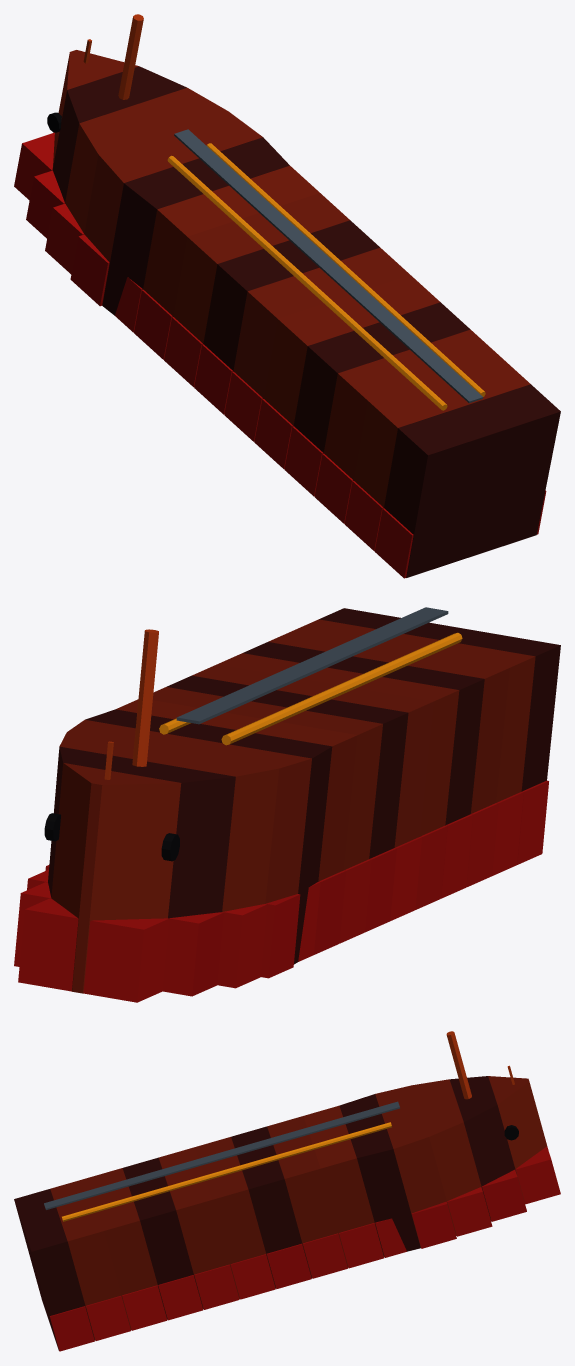
The model's file is tb_tanker_wreck.glb.
3 renders of one model, top to bottom at view 1: azimuth 30°, elevation 25°; view 2: azimuth 150°, elevation 25°; view 3: azimuth 270°, elevation 25°, orthographic. The views are drawn at different scales.
Visible parts, largest first — view 1: tanker_body; view 2: tanker_body; view 3: tanker_body.
Part boxes in pixels (x1,y1,x2,y2): tanker_body: (14, 14, 560, 578); tanker_body: (14, 607, 560, 1002); tanker_body: (14, 1031, 560, 1351).
Size of the model in its own units: 22.94 by 36.06 by 66.45.
